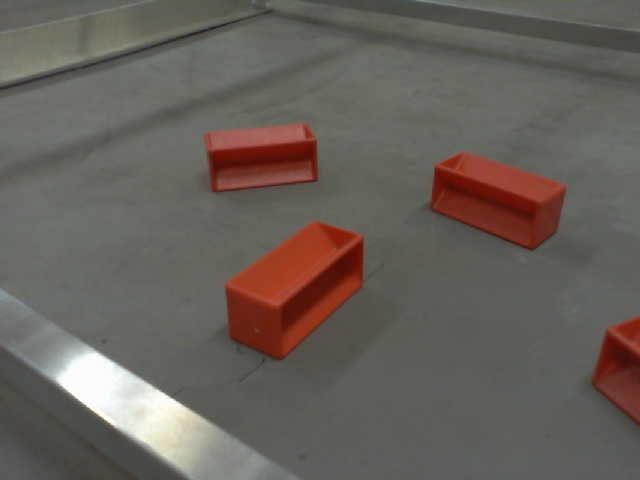RedSample: (224, 220, 366, 364), (430, 152, 566, 260), (203, 122, 322, 193), (590, 312, 640, 426)
